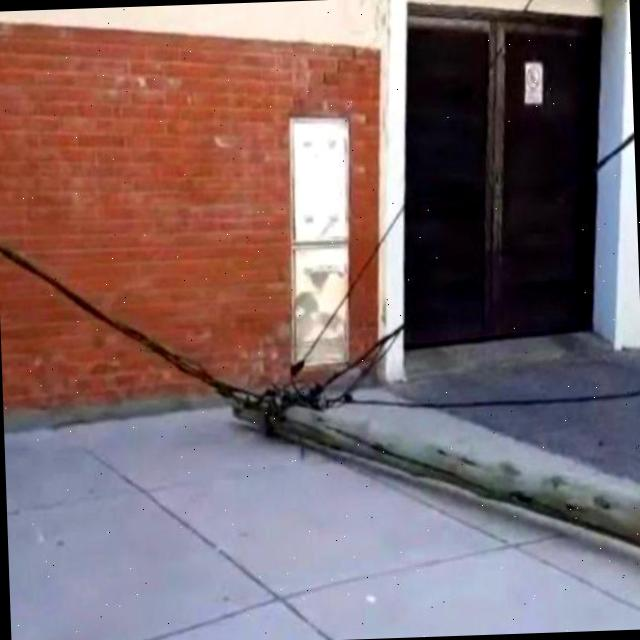Broken Pole: (237, 384, 640, 547)
